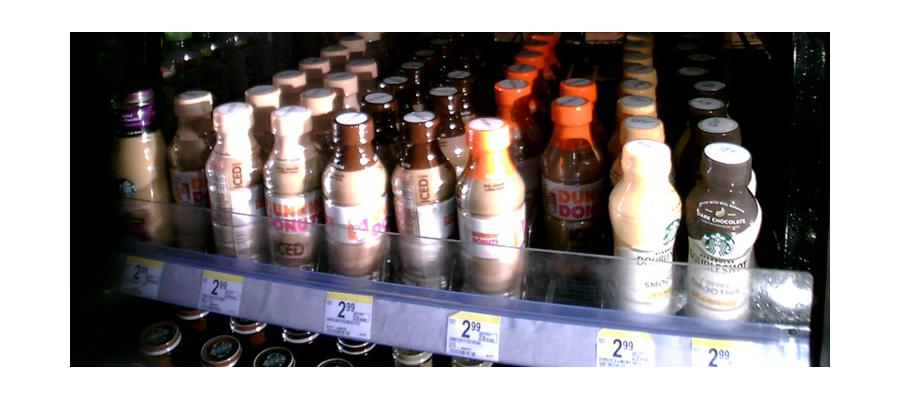bottle: (687, 137, 758, 324), (459, 114, 523, 302), (615, 133, 680, 317), (393, 108, 453, 293), (547, 86, 606, 272), (322, 109, 383, 286), (261, 102, 317, 274), (205, 94, 259, 264), (104, 89, 158, 249), (164, 88, 206, 252)
